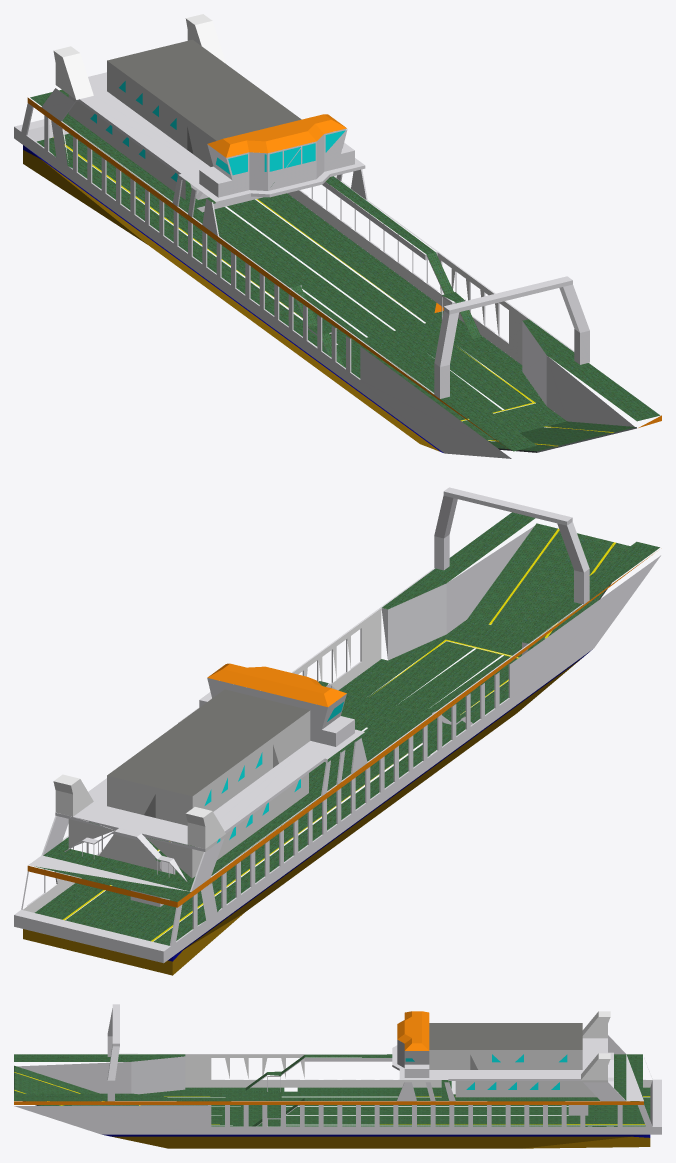
Rendered from lct-ferry.zfix-v14.lod1.glb.
The picture shows the model from 3 angles, top to bottom: view 1: azimuth 30°, elevation 25°; view 2: azimuth 150°, elevation 25°; view 3: azimuth 270°, elevation 25°; orthographic projection. The views are drawn at different scales.
Visible parts, largest first — view 1: Material2 (×3); view 2: Material2 (×3); view 3: Material2 (×3).
Part boxes in pixels (x1,y1,x2,y2): Material2 (×3): (14,14,661,458); Material2 (×3): (14,487,660,975); Material2 (×3): (14,1004,661,1148).
Size of the model in its own units: 6.96 by 7.44 by 40.
Materials: 3 (2 with a texture image).
